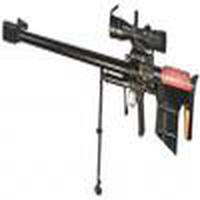gun: (2, 11, 200, 153)
